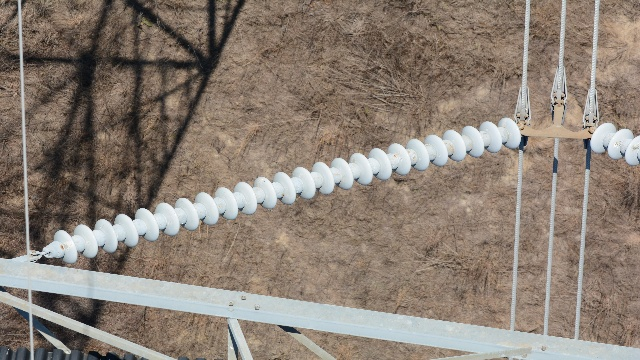insulator_unspecified: (52, 117, 521, 263), (591, 122, 639, 166)
pollution_flashover_local: (614, 136, 629, 151), (63, 238, 73, 252), (629, 142, 639, 153), (349, 155, 357, 164)
